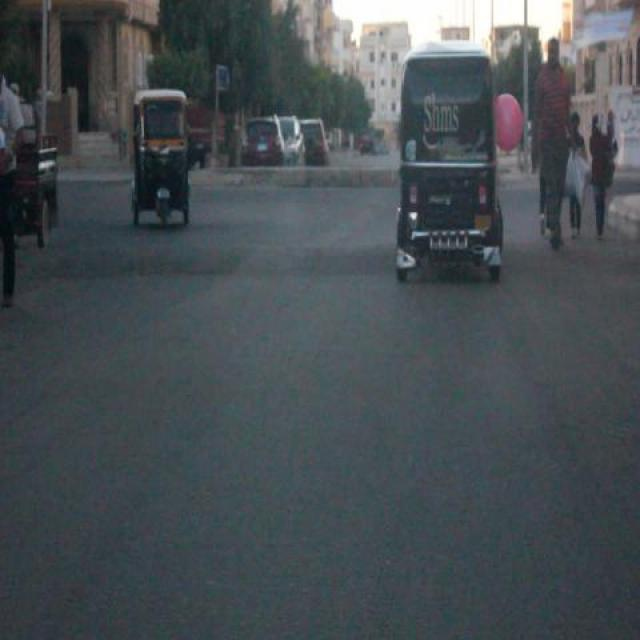Unmarked Bump: (19, 238, 396, 276), (504, 238, 640, 278)
